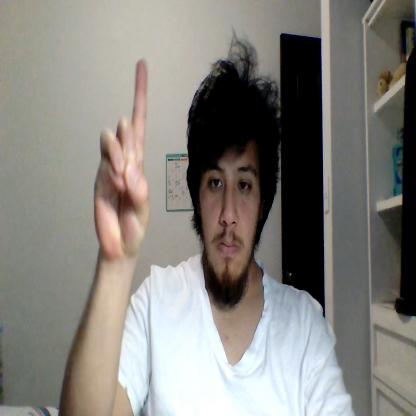D: (93, 60, 151, 257)
